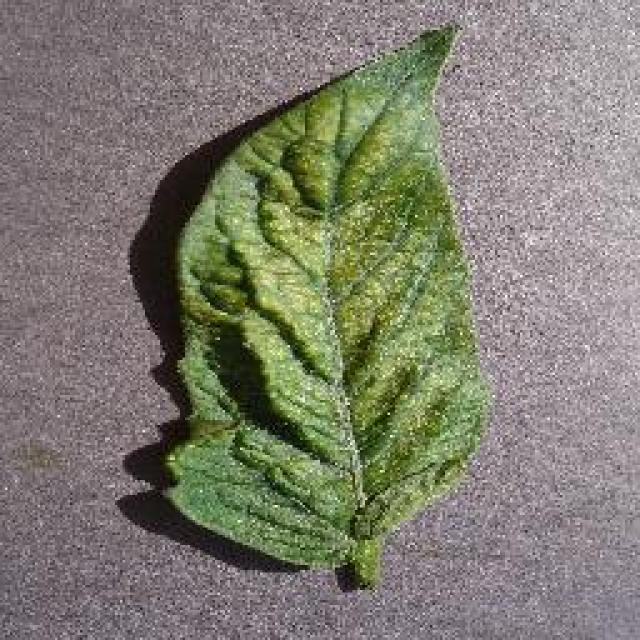Tomato mosaic virus leaf: (168, 19, 482, 569)
